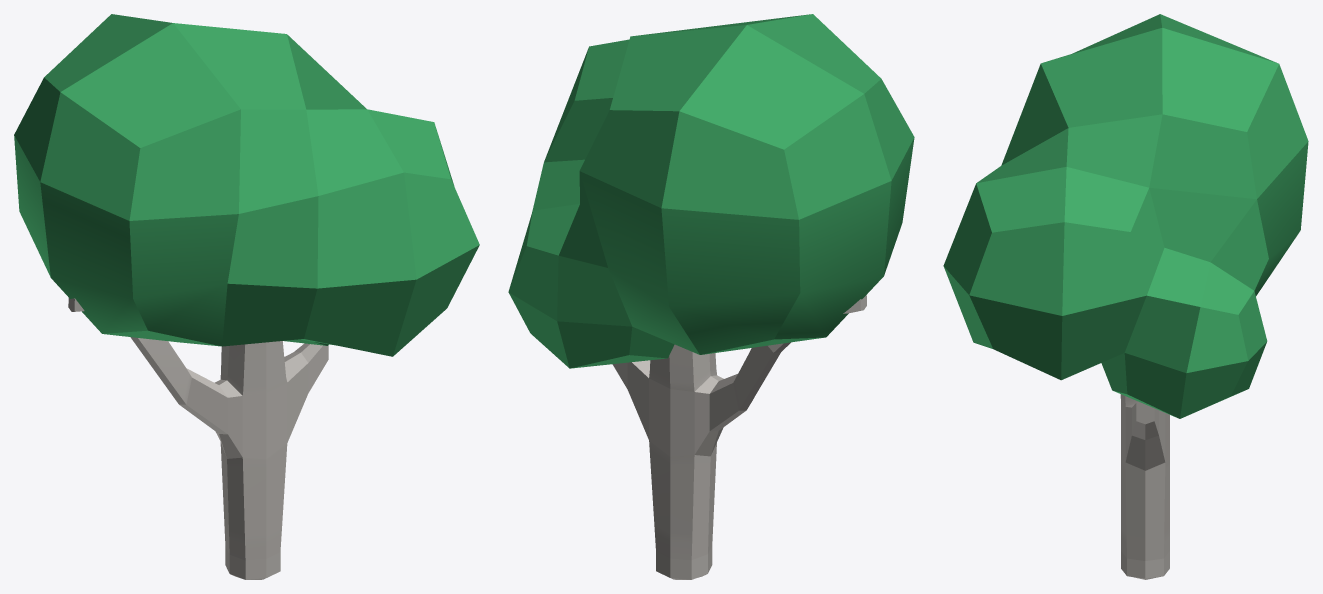
The model's file is Comb_Birch_Tree.fbx.
3 views of the same model, side by side, from view 1: azimuth 30°, elevation 25°; view 2: azimuth 150°, elevation 25°; view 3: azimuth 270°, elevation 25° (orthographic). The views are drawn at different scales.
Visible parts, largest first — view 1: Tree_Trunk1; view 2: Tree_Trunk1; view 3: Tree_Trunk1.
Part boxes in pixels (left/top/right/bottom): Tree_Trunk1: left=14, top=14, right=479, bottom=579; Tree_Trunk1: left=508, top=14, right=914, bottom=579; Tree_Trunk1: left=943, top=14, right=1308, bottom=579.
Bounding box in the file's own units: 18.08 × 26.18 × 16.85.
